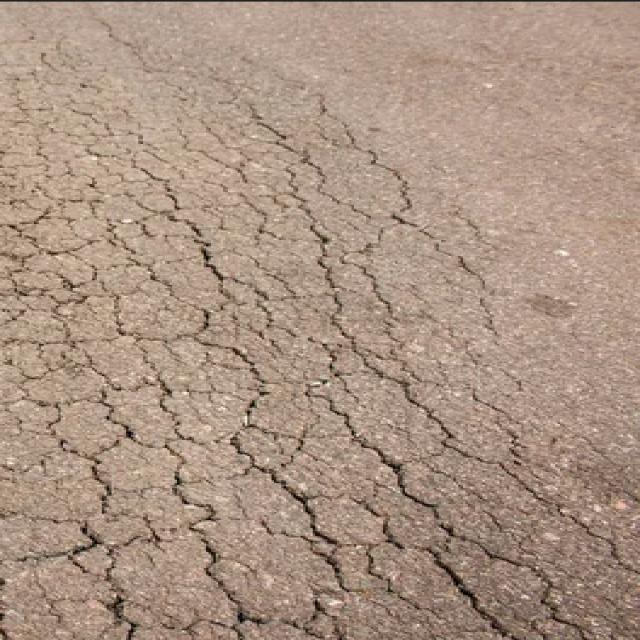Drain Hole: (0, 93, 640, 637)
